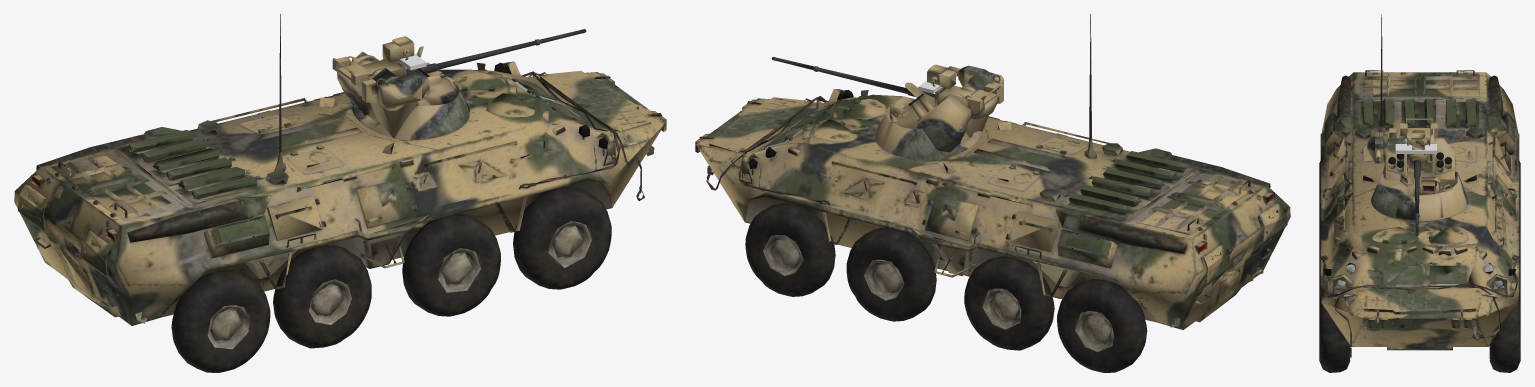
The model's file is btr82.glb.
3 views of the same model, side by side, from view 1: azimuth 30°, elevation 25°; view 2: azimuth 150°, elevation 25°; view 3: azimuth 270°, elevation 25° (orthographic). The views are drawn at different scales.
Visible parts, largest first — view 1: g_btr82_hull, g_btr82_turret, g_btr82_gun; view 2: g_btr82_hull, g_btr82_turret, g_btr82_gun; view 3: g_btr82_hull, g_btr82_turret, g_btr82_gun.
Part boxes in pixels (bbox=[...]): g_btr82_hull: bbox=[14, 14, 666, 372]; g_btr82_turret: bbox=[332, 36, 469, 139]; g_btr82_gun: bbox=[406, 29, 586, 75]; g_btr82_hull: bbox=[695, 14, 1290, 372]; g_btr82_turret: bbox=[874, 64, 1003, 160]; g_btr82_gun: bbox=[772, 57, 935, 97]; g_btr82_hull: bbox=[1319, 14, 1520, 372]; g_btr82_turret: bbox=[1367, 118, 1468, 221]; g_btr82_gun: bbox=[1414, 159, 1420, 236].
Size of the model in its own units: 7.65 by 3.98 by 2.85.
Materials: 4 (3 with a texture image).
